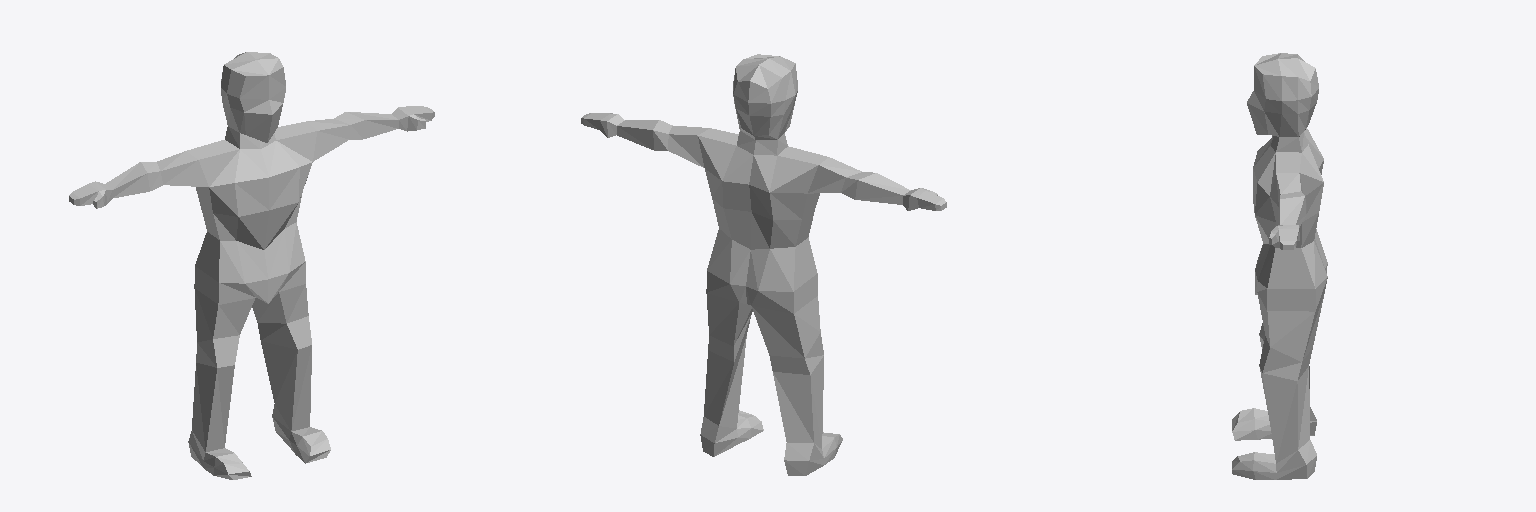
Rendered from Character.obj.
3 renders of one model, left to right at view 1: azimuth 30°, elevation 25°; view 2: azimuth 150°, elevation 25°; view 3: azimuth 270°, elevation 25°, orthographic.
Visible parts, largest first — view 1: Cube; view 2: Cube; view 3: Cube.
Boxes of the visible parts, <box> form: Cube: <box>69,52,434,479</box>; Cube: <box>581,54,946,475</box>; Cube: <box>1232,53,1327,479</box>.
Bounding box in the file's own units: 1.76 × 1.85 × 0.4058.